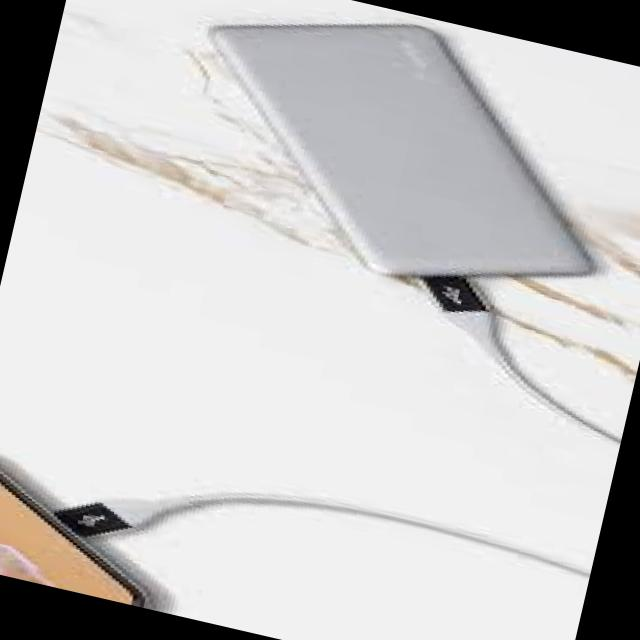power_bank: (150, 0, 640, 325)
